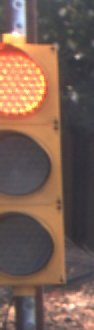Red: (2, 20, 75, 301)
